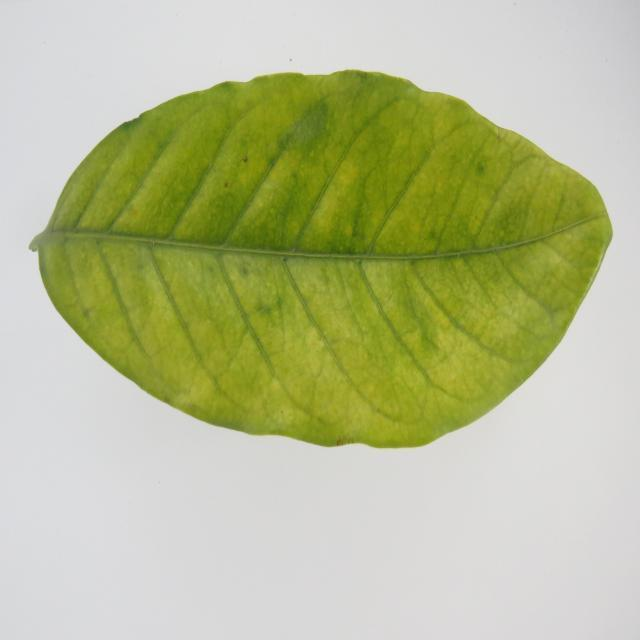DeficienciaNutricional-Manganeso: (31, 72, 611, 447)
